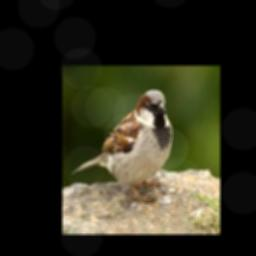Sparrow: (71, 89, 172, 203)
